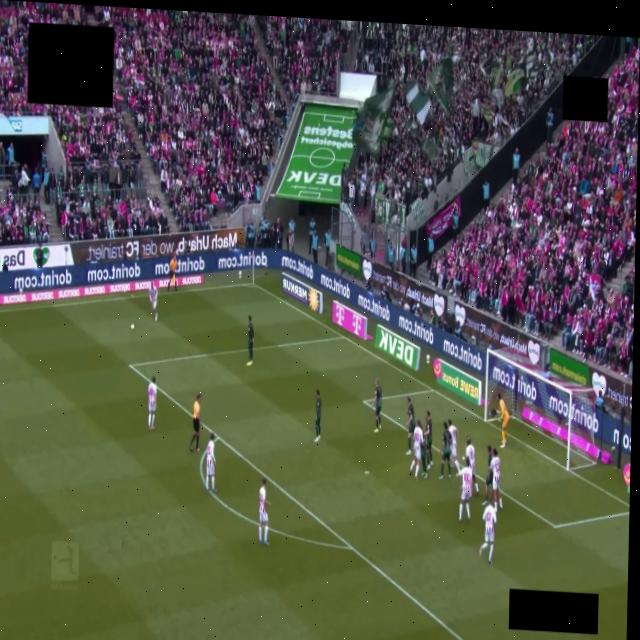ball: (130, 324, 133, 329)
player: (478, 506, 496, 565), (457, 460, 471, 522), (410, 421, 424, 478), (465, 436, 478, 497), (465, 436, 478, 496), (490, 449, 502, 511), (414, 420, 427, 477), (447, 419, 460, 473), (439, 423, 451, 480), (258, 479, 268, 545), (447, 419, 459, 473), (405, 396, 415, 456), (482, 445, 492, 505), (497, 394, 508, 448), (205, 433, 215, 492), (371, 379, 381, 432), (147, 377, 156, 430), (424, 411, 431, 470), (246, 315, 253, 366), (149, 281, 157, 321), (315, 389, 320, 442), (423, 463, 427, 476)
referee: (189, 394, 200, 451)
